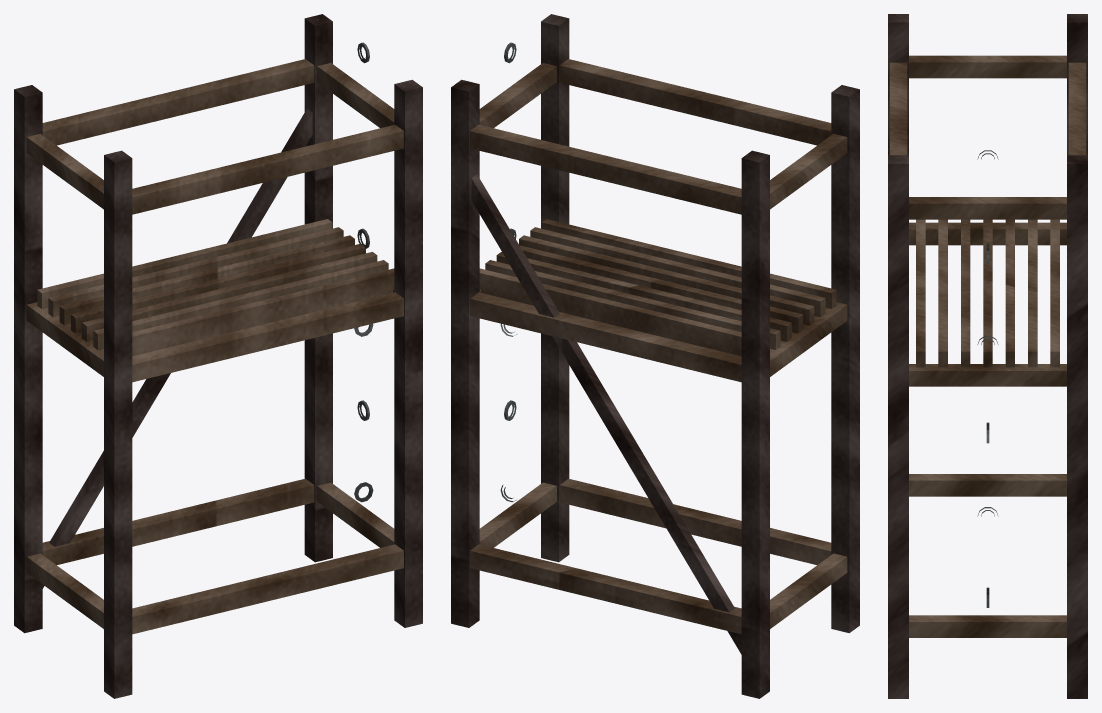
File: 0442_scaffolding_17.glb
3 renders of one model, left to right at view 1: azimuth 30°, elevation 25°; view 2: azimuth 150°, elevation 25°; view 3: azimuth 270°, elevation 25°, orthographic.
Visible parts, largest first — view 1: wood, wood_dark, iron; view 2: wood, wood_dark; view 3: wood, wood_dark, iron.
Boxes of the visible parts, left/top/right/bottom form: wood: left=26, top=59, right=403, bottom=634; wood_dark: left=14, top=14, right=422, bottom=698; iron: left=354, top=42, right=373, bottom=502; wood: left=470, top=59, right=847, bottom=634; wood_dark: left=451, top=14, right=859, bottom=698; wood: left=889, top=55, right=1086, bottom=637; wood_dark: left=888, top=14, right=1087, bottom=698; iron: left=977, top=150, right=998, bottom=607.
Bounding box in the file's own units: 2.23 × 3.77 × 1.25.
3 materials, 3 textured.
